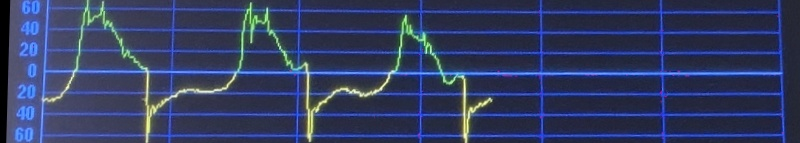hydrop_flow: (36, 1, 502, 143)
